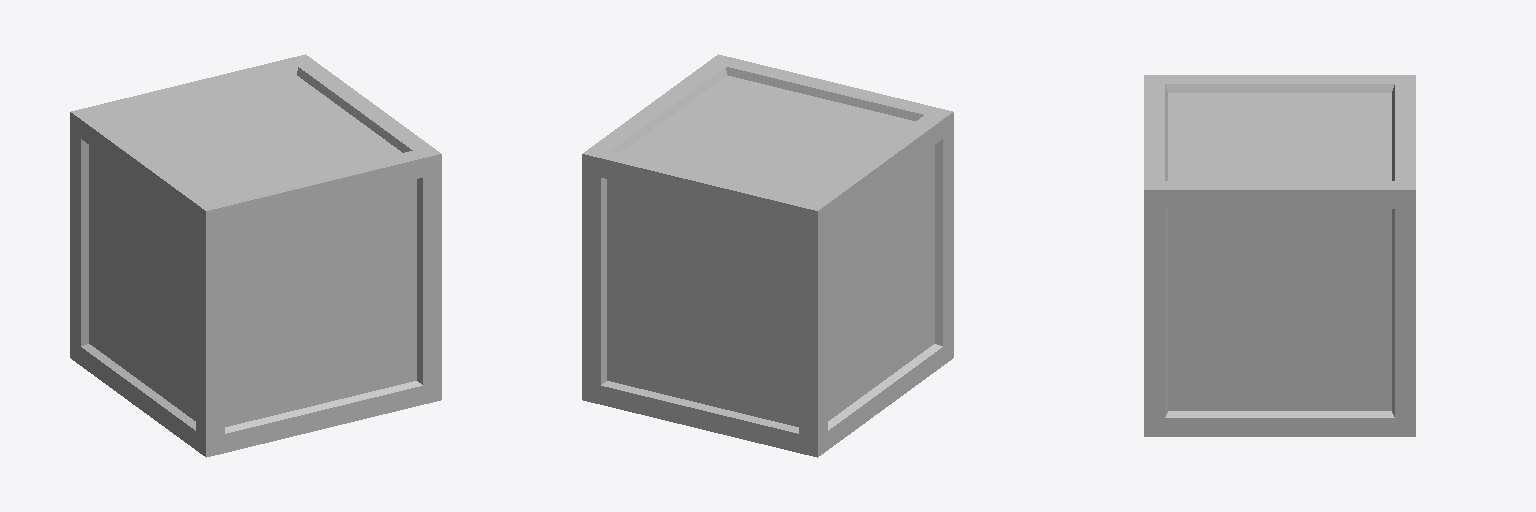
The model's file is MetalBox.obj.
3 views of the same model, side by side, from view 1: azimuth 30°, elevation 25°; view 2: azimuth 150°, elevation 25°; view 3: azimuth 270°, elevation 25° (orthographic).
Parts seen in each view (by area): view 1: Cube_Cube.003; view 2: Cube_Cube.003; view 3: Cube_Cube.003.
Part boxes in pixels (bbox=[...]): Cube_Cube.003: bbox=[70, 54, 441, 457]; Cube_Cube.003: bbox=[582, 54, 953, 457]; Cube_Cube.003: bbox=[1144, 75, 1415, 436].
Bounding box in the file's own units: 2 × 2 × 2.